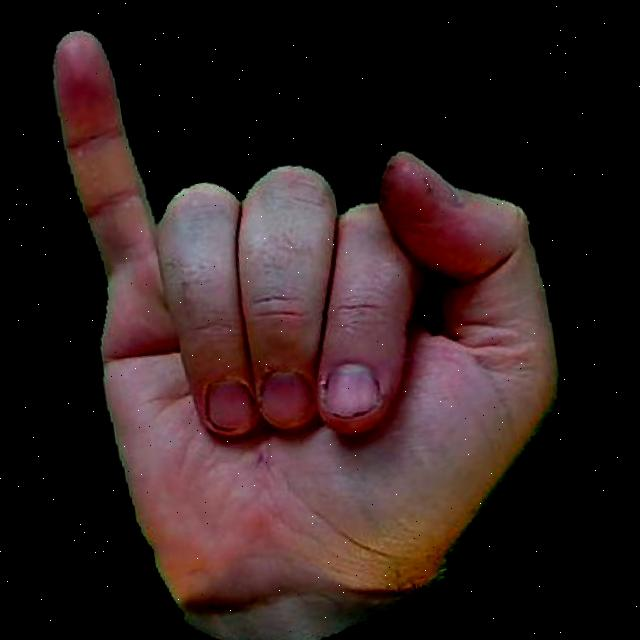i: (31, 0, 603, 640)
